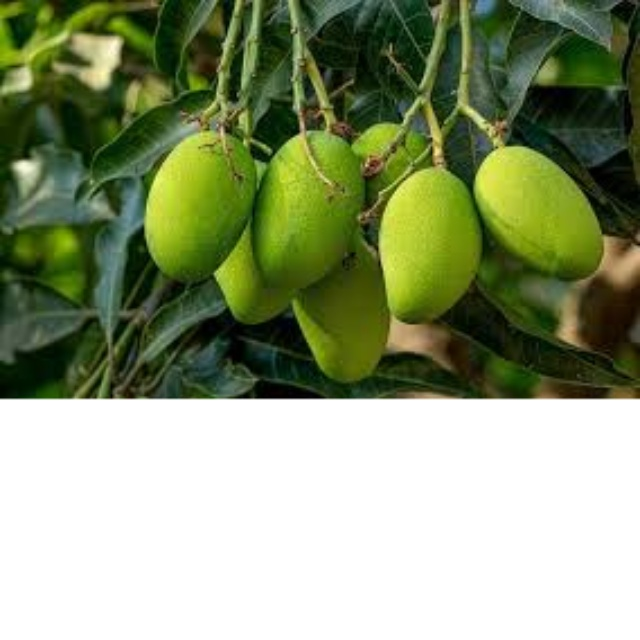thanh_long: (473, 132, 610, 278), (141, 119, 256, 284), (375, 157, 482, 322), (262, 119, 357, 297)
